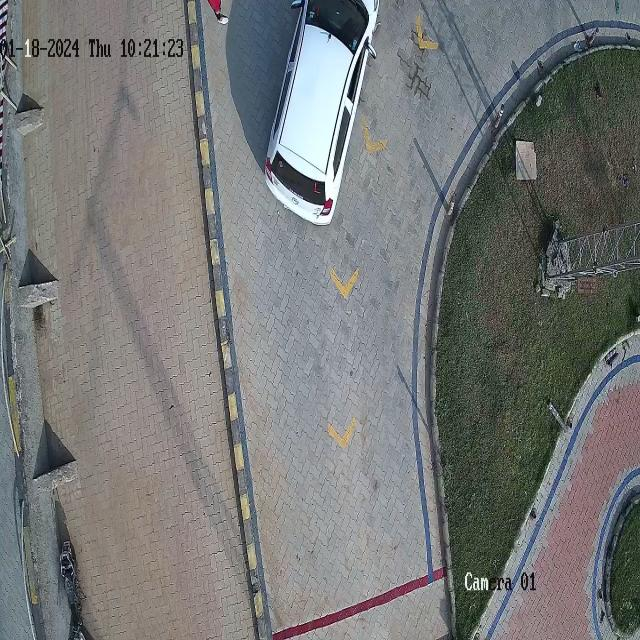car: (265, 0, 379, 223)
